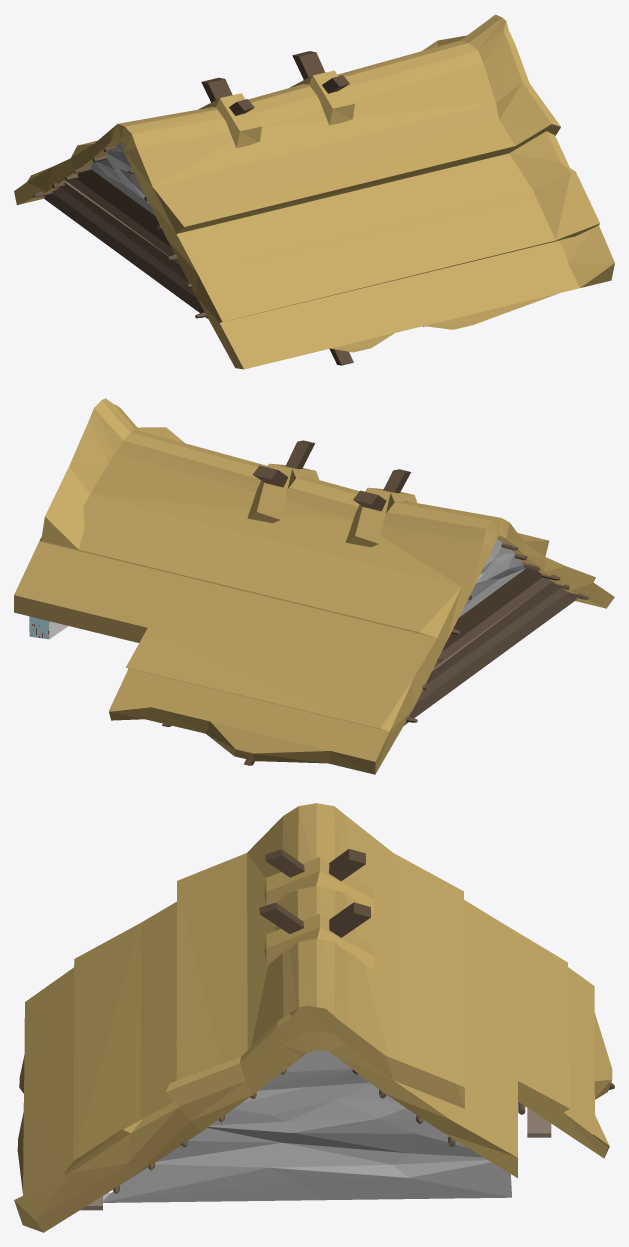
The model's file is EA03_Village_Hut_Roof_Cut_01b.fbx.
3 views of the same model, one above another, from view 1: azimuth 30°, elevation 25°; view 2: azimuth 150°, elevation 25°; view 3: azimuth 270°, elevation 25° (orthographic). The views are drawn at different scales.
Parts seen in each view (by area): view 1: EA03_Village_Hut_Roof_Cut_01b_LOD0; view 2: EA03_Village_Hut_Roof_Cut_01b_LOD0; view 3: EA03_Village_Hut_Roof_Cut_01b_LOD0.
Part boxes in pixels (x1=…): EA03_Village_Hut_Roof_Cut_01b_LOD0: x1=14, y1=14, x2=614, y2=369; EA03_Village_Hut_Roof_Cut_01b_LOD0: x1=14, y1=398, x2=614, y2=774; EA03_Village_Hut_Roof_Cut_01b_LOD0: x1=14, y1=803, x2=614, y2=1232.
Size of what is drawn, in the model's own units: 10.55 by 5.22 by 11.37.
